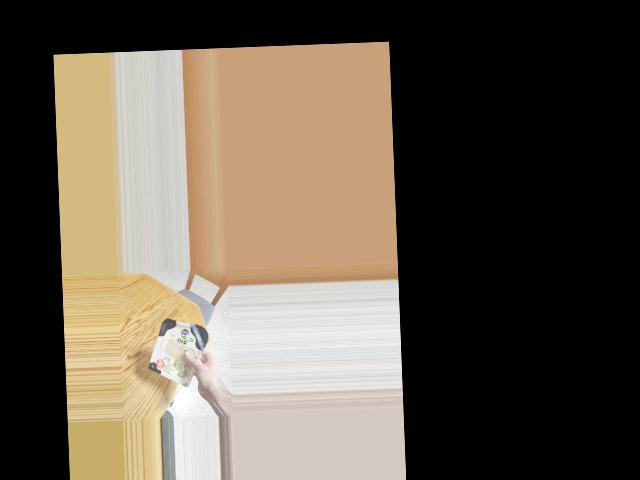cheese: (149, 314, 207, 377)
